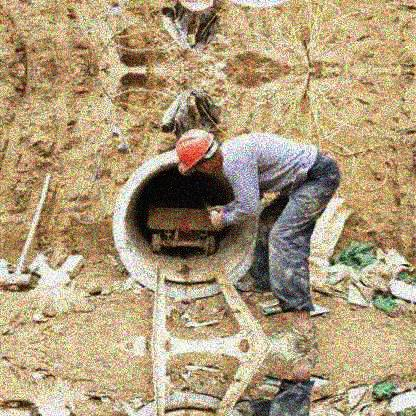helmet: (176, 127, 221, 177)
